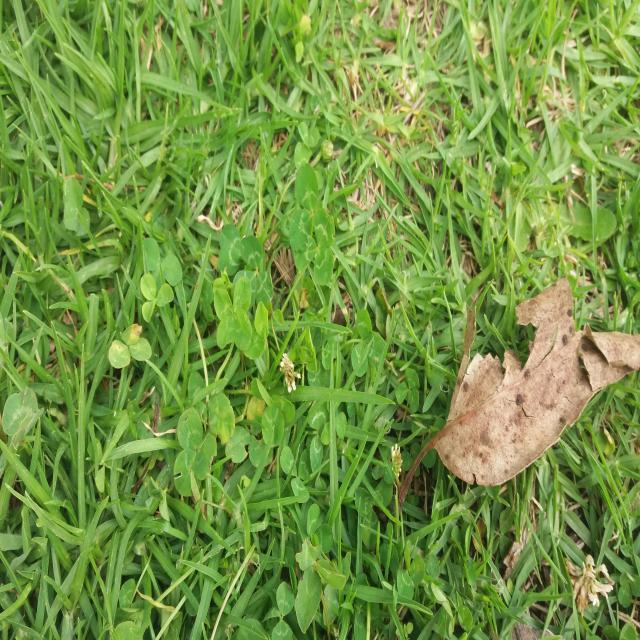Four Leaf Clover: (273, 80, 323, 158), (214, 277, 252, 350), (143, 287, 181, 333)
